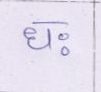anusvara: (59, 34, 68, 40)
